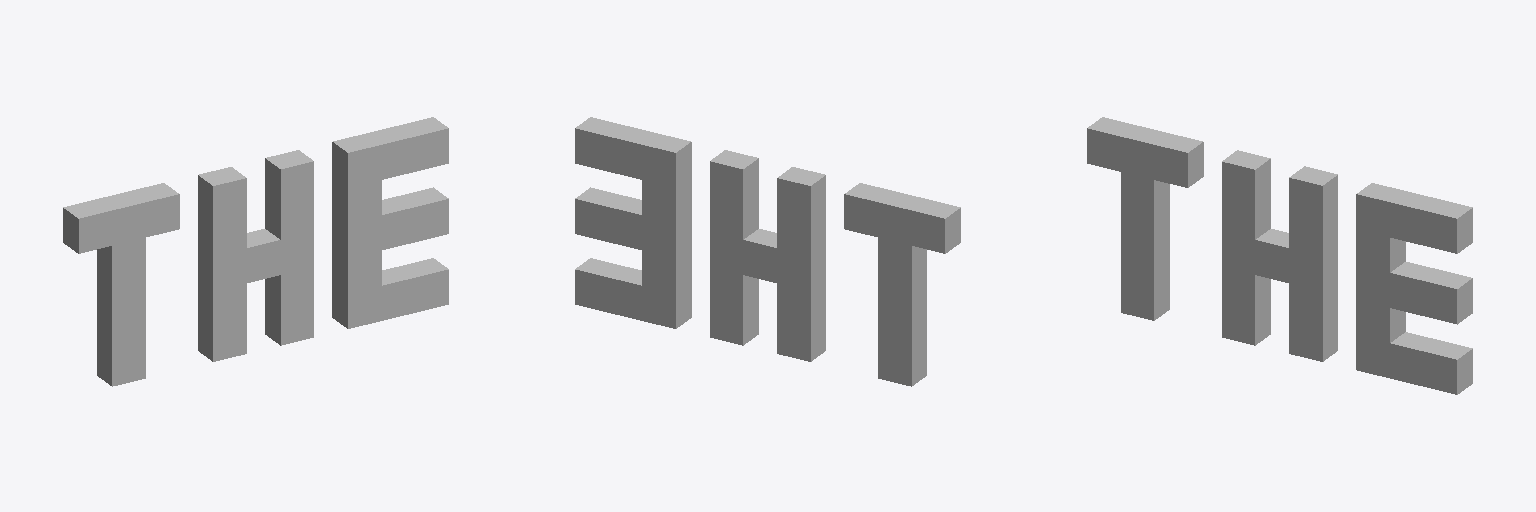
File: the.obj
The picture shows the model from 3 angles: view 1: azimuth 30°, elevation 25°; view 2: azimuth 150°, elevation 25°; view 3: azimuth 330°, elevation 25°; orthographic projection.
Visible parts, largest first — view 1: Text.001; view 2: Text.001; view 3: Text.001.
Part boxes in pixels (bbox=[...]): Text.001: bbox=[63, 117, 448, 386]; Text.001: bbox=[575, 117, 960, 386]; Text.001: bbox=[1087, 117, 1472, 394].
Bounding box in the file's own units: 1.38 × 0.625 × 0.1.